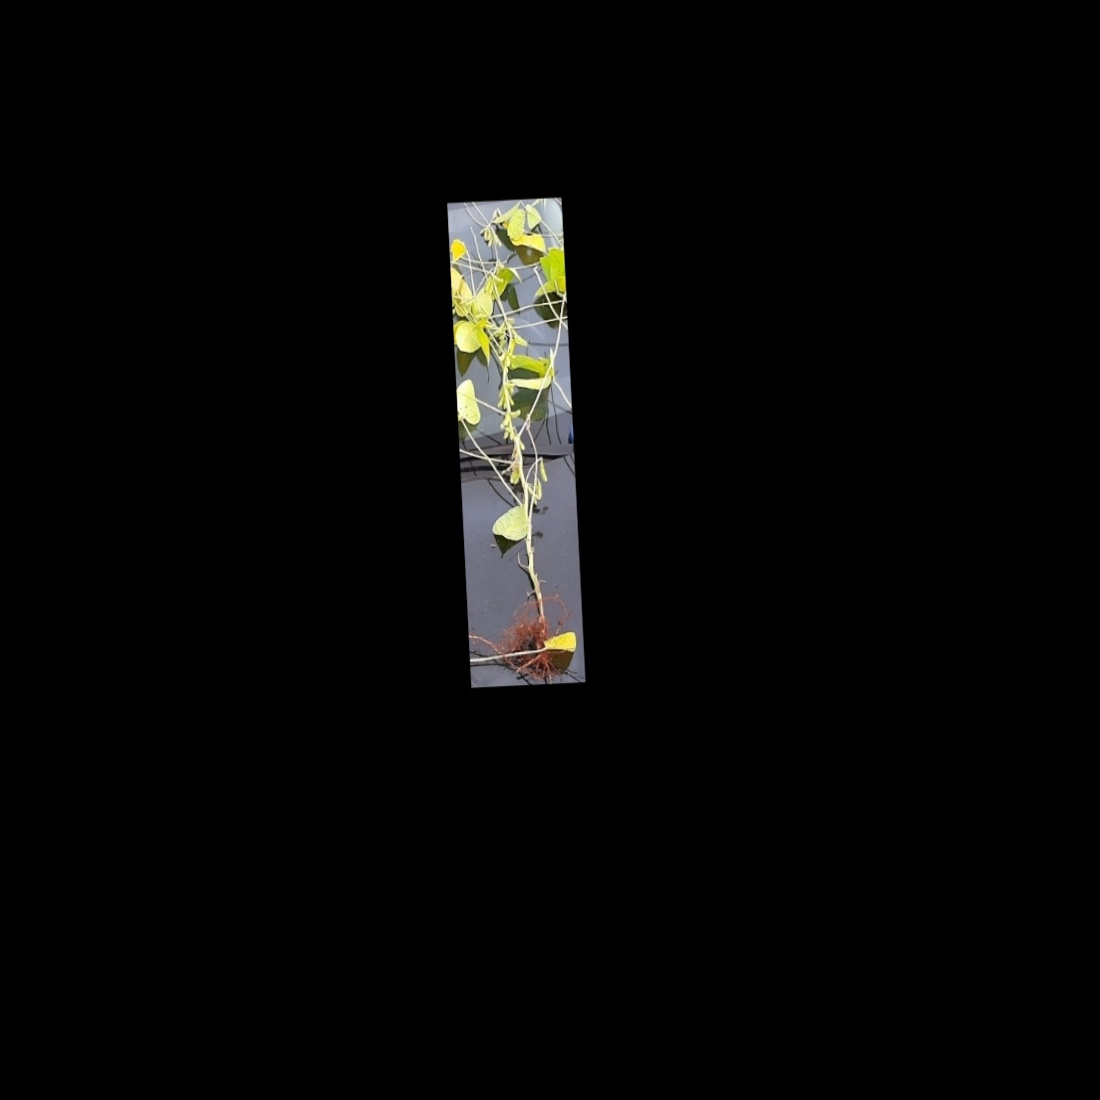pod: (537, 456, 549, 485), (506, 407, 522, 421), (495, 390, 505, 410), (500, 381, 516, 392)
soy: (450, 207, 579, 672)
